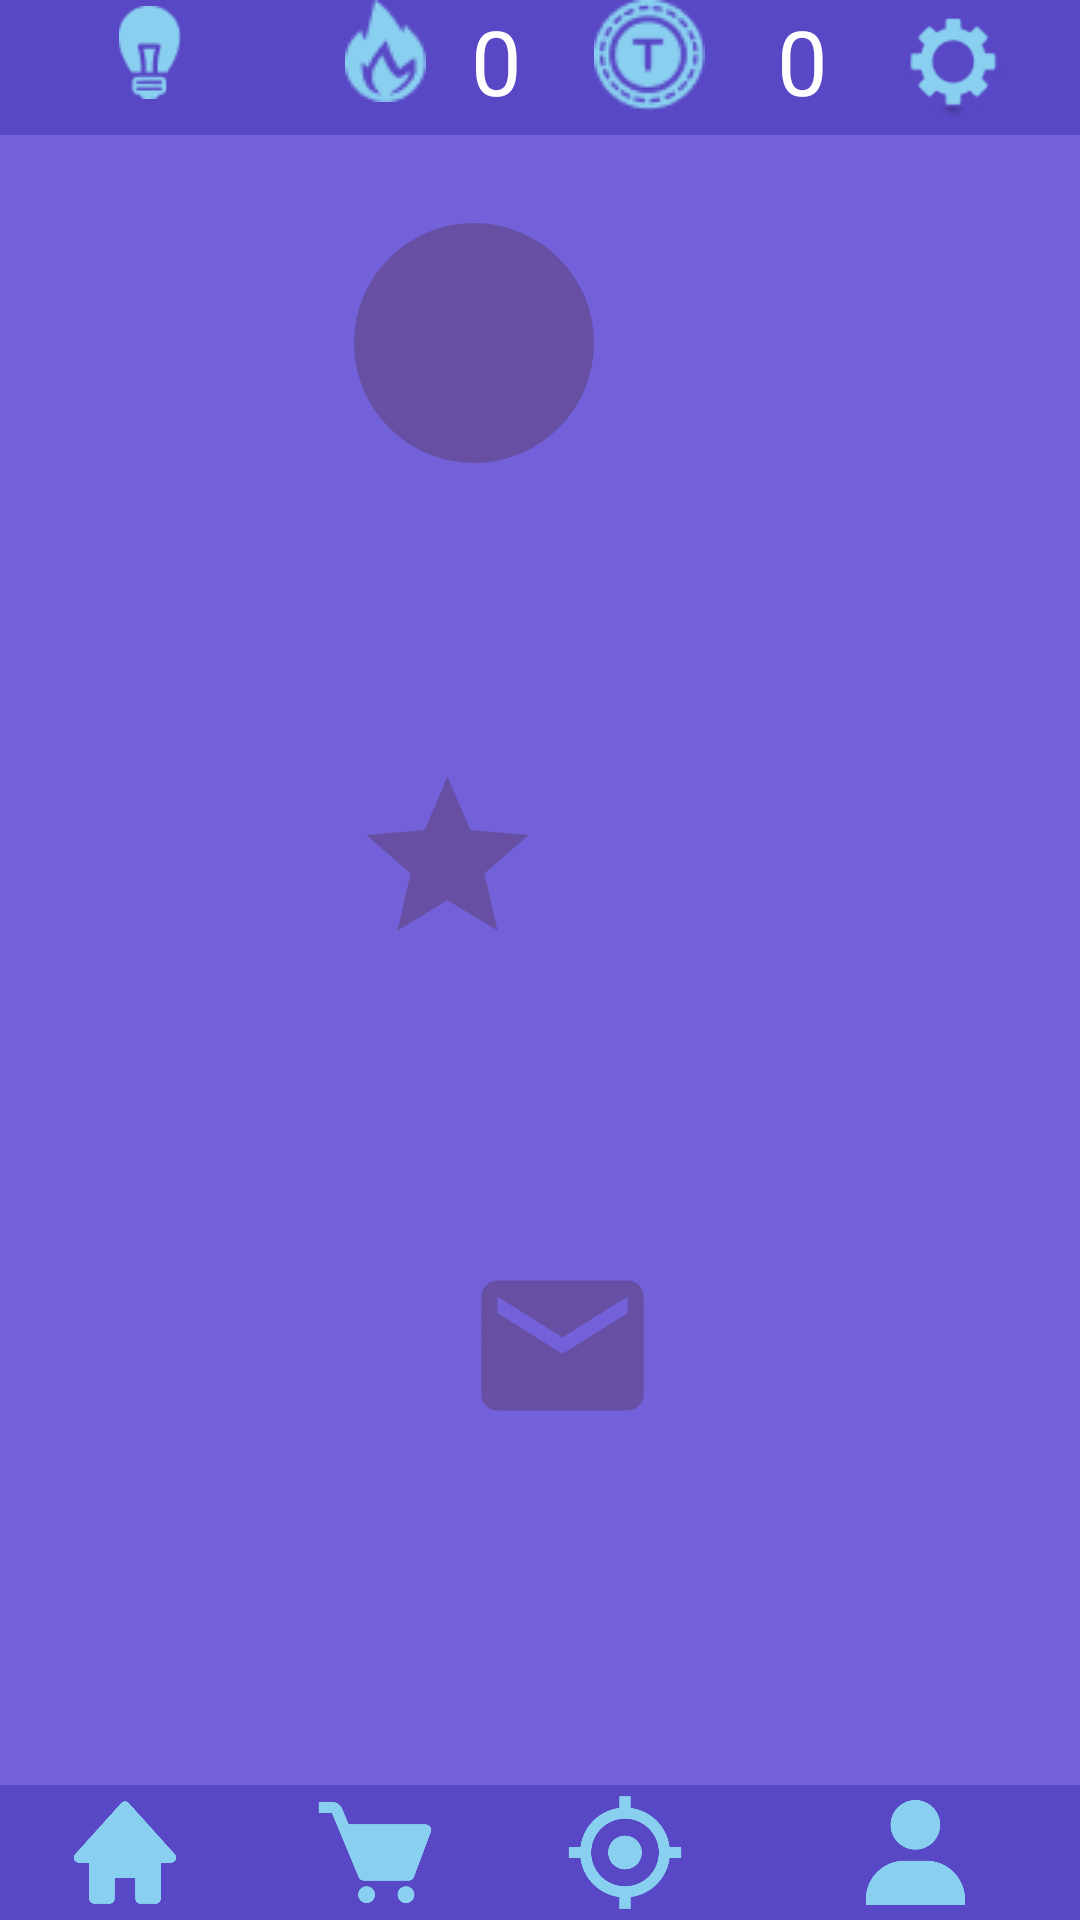

Where to tap for icons on this 1080px x 1920px app screen, as (x,y):
coins: (649,54)
game: (625,1852)
home: (125,1852)
profile: (915,1852)
settings: (953,65)
shop: (375,1852)
star: (447,853)
streak: (385,51)
tips: (150,52)
